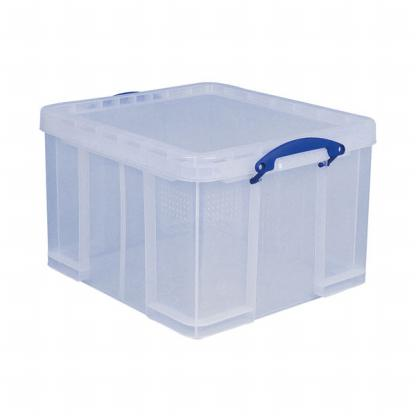plastic_box: (23, 63, 384, 341)
